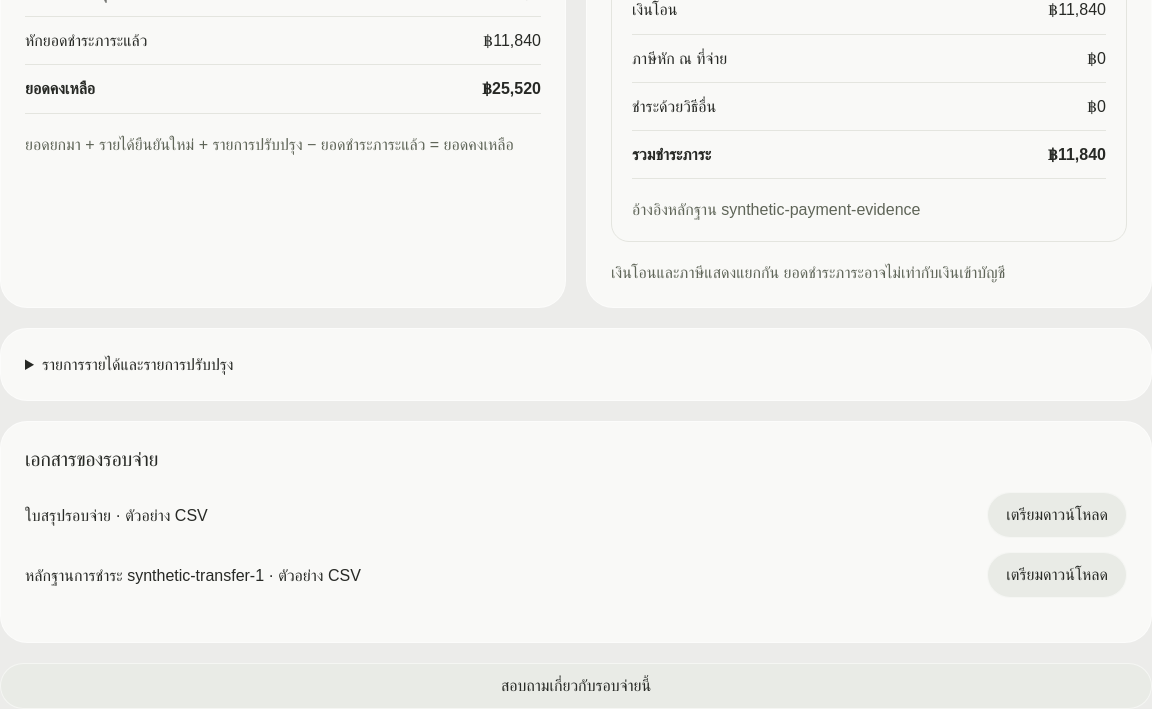
F06 presentation and document lifecycle › renders frozen amounts and payment breakdown without eagerly preparing files
(page scrolled)
Expected: the text "ภาษีหัก ณ ที่จ่าย" is shown, [632,46,727,70]
Click the button "สอบถามเกี่ยวกับรอบจ่ายนี้" at (576, 686), box [0,664,1151,708]
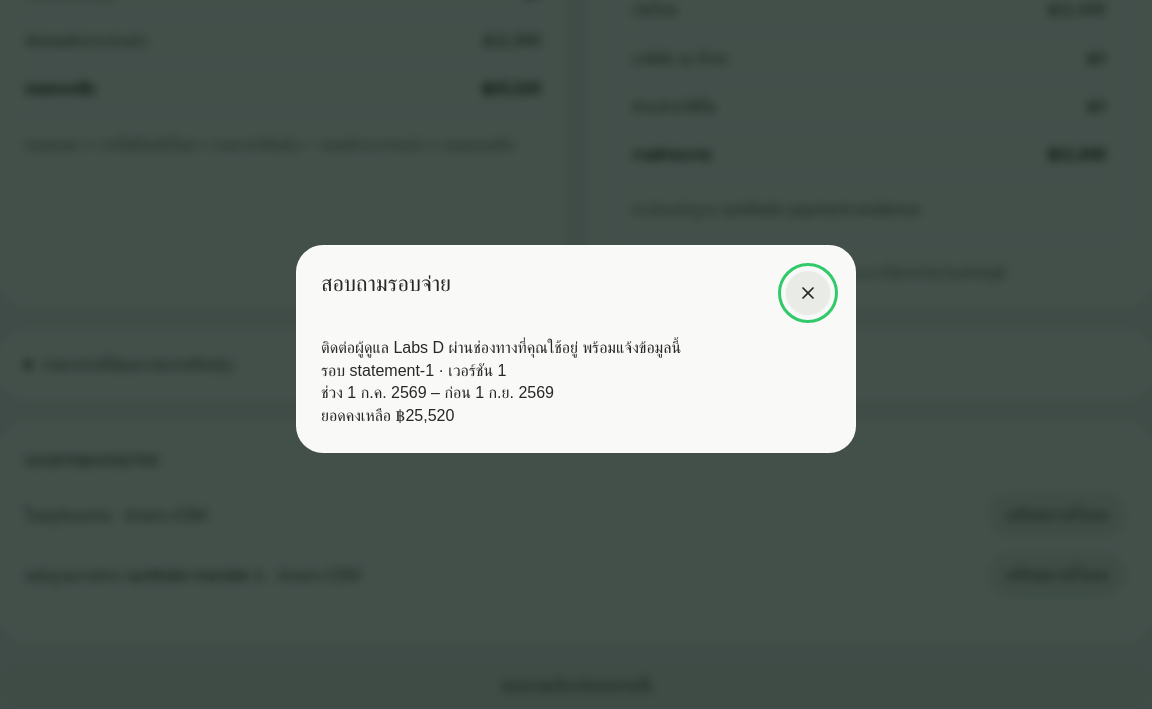
Expected: the dialog shows "statement-1", [350,362,434,379]
